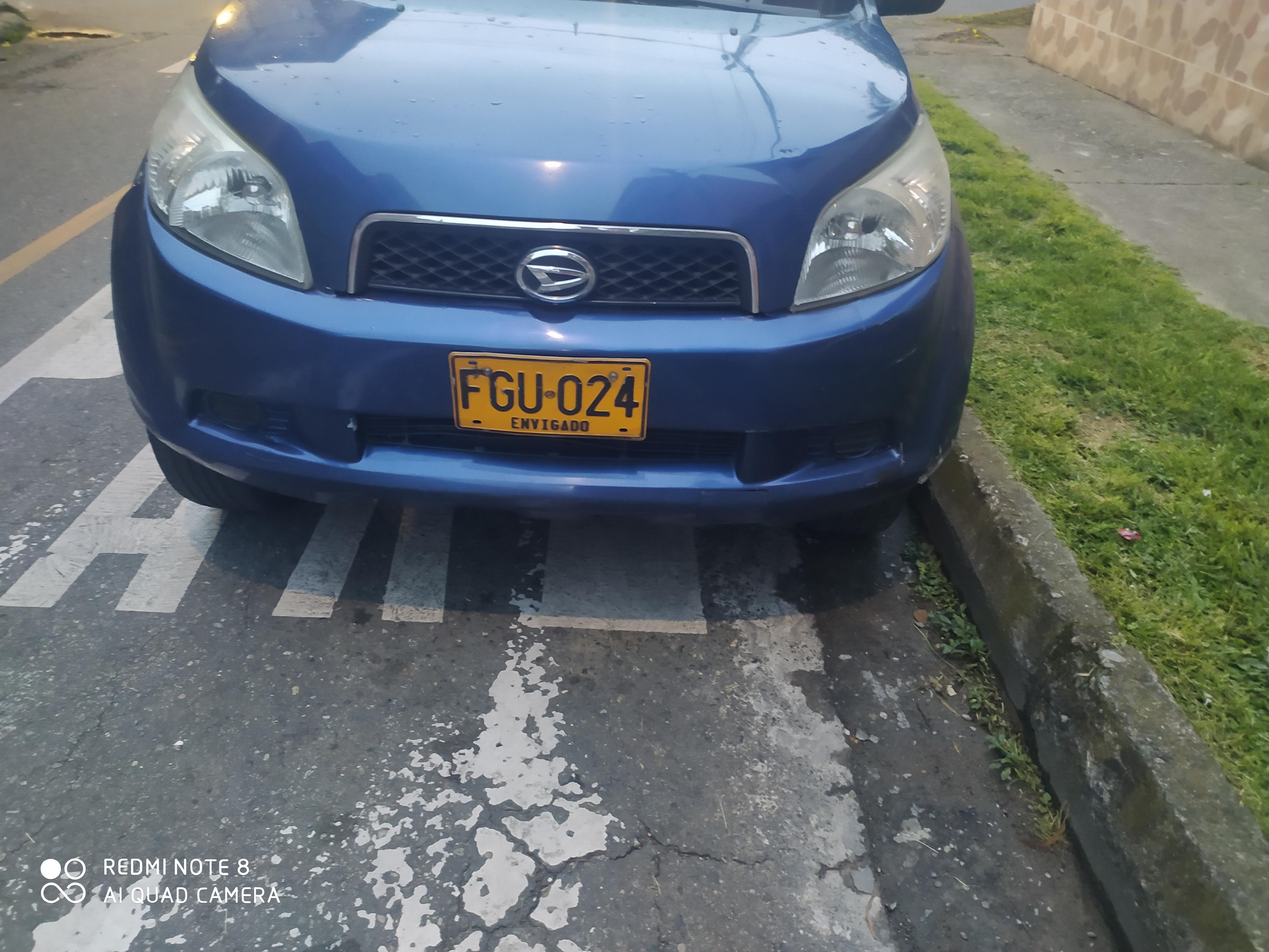placa: (431, 343, 667, 455)
